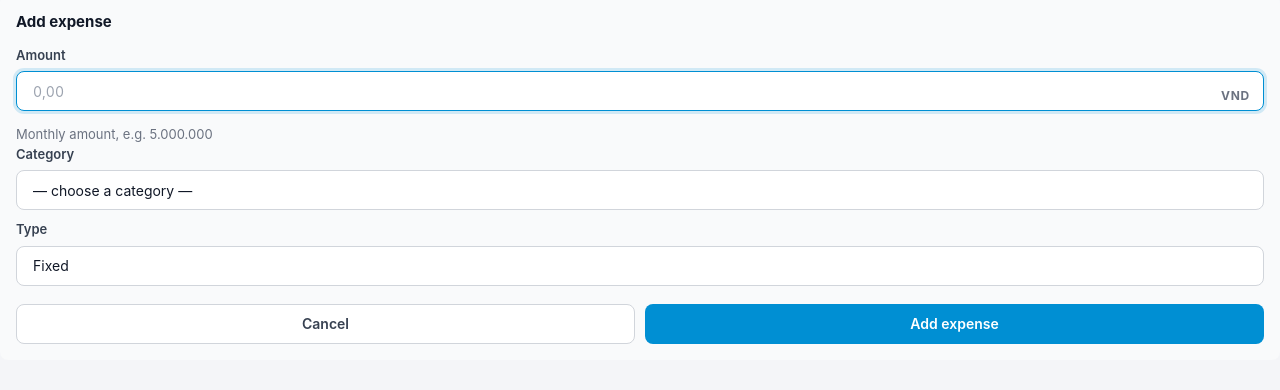
ExpenseForm › blocks a missing amount or category with an understandable message
Select "Food / groceries" in the dropdown with id "expense-category" at (640, 190), box x1=16 y1=170 x2=1264 y2=210
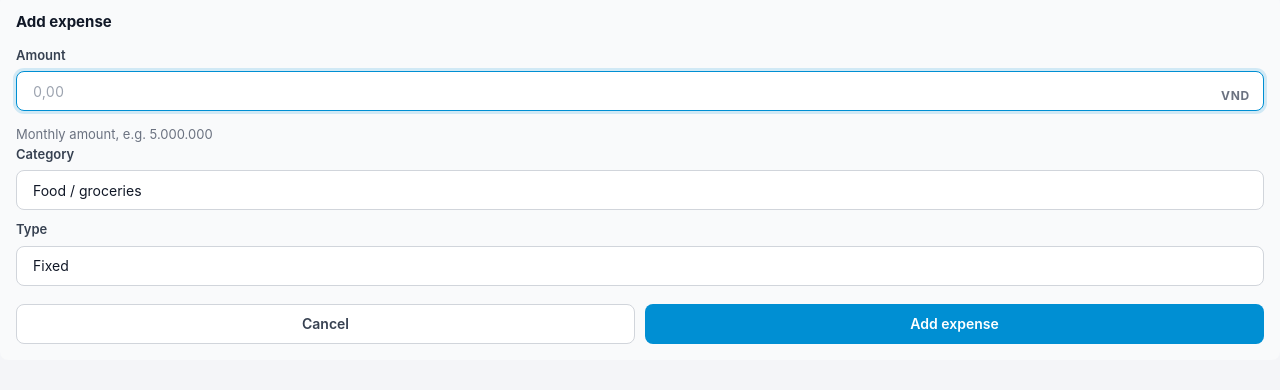
Click the button "Add expense" at (954, 324), box x1=645 y1=304 x2=1264 y2=344
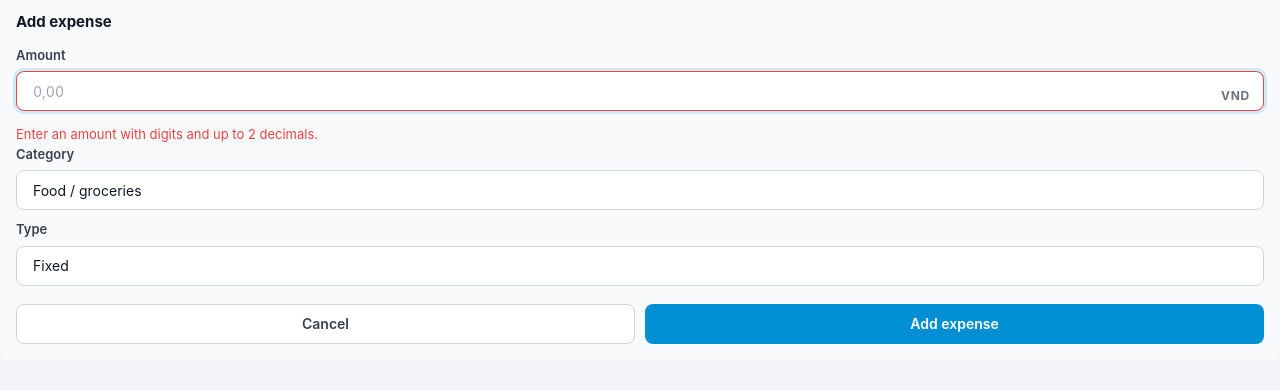
Now the message "Enter an amount with digits and up to 2 decimals." is shown, box x1=16 y1=126 x2=318 y2=142
Type "12" into the field with id "expense-amount" at (640, 91), box x1=16 y1=71 x2=1264 y2=111
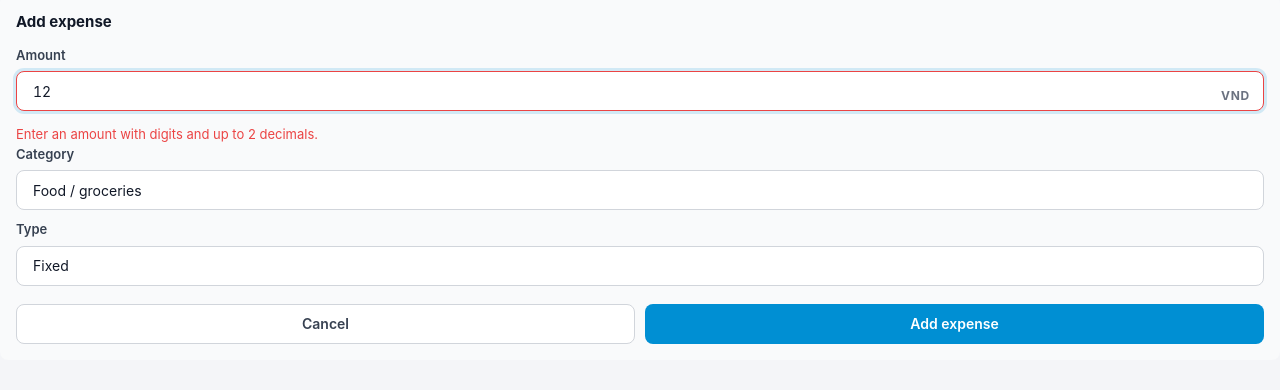
Select "— choose a category —" in the dropdown with id "expense-category" at (640, 190), box x1=16 y1=170 x2=1264 y2=210
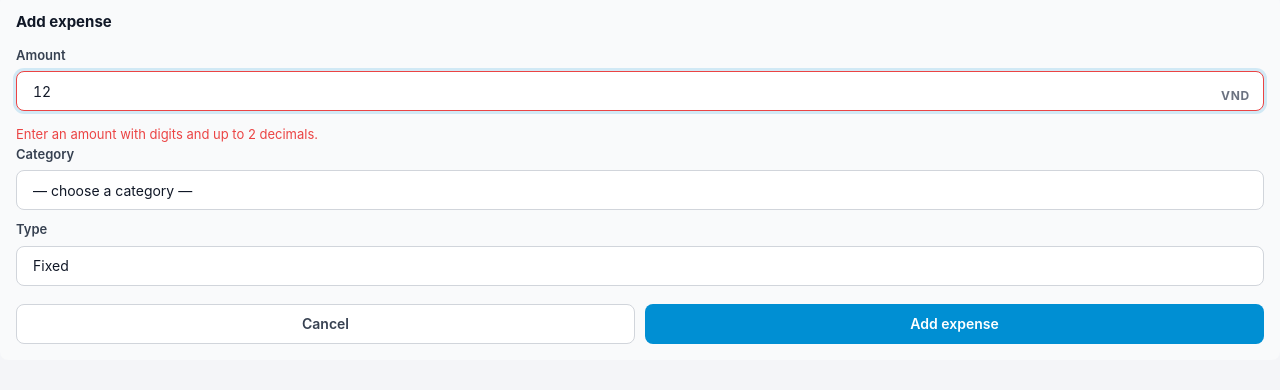
Click the button "Add expense" at (954, 324), box x1=645 y1=304 x2=1264 y2=344
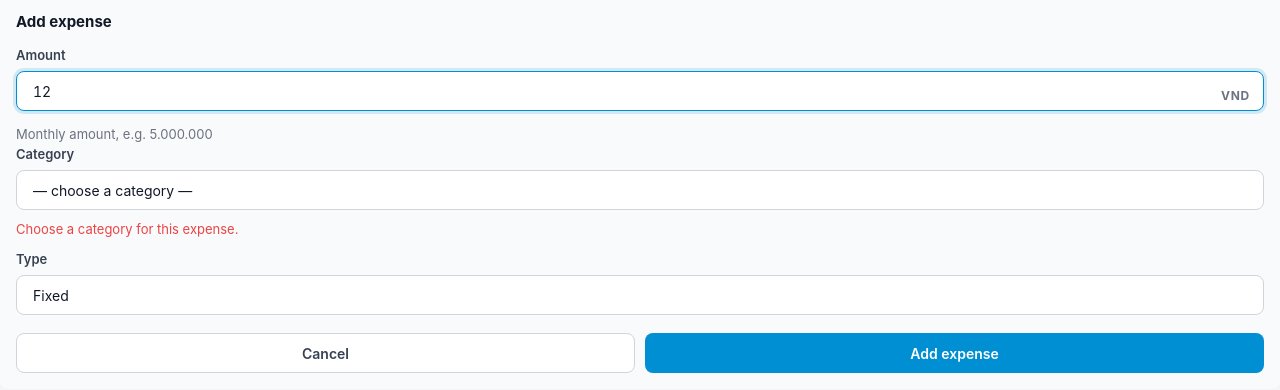
Now the message with id "expense-category-error" reads "Choose a category for this expense.", box x1=16 y1=221 x2=238 y2=237
